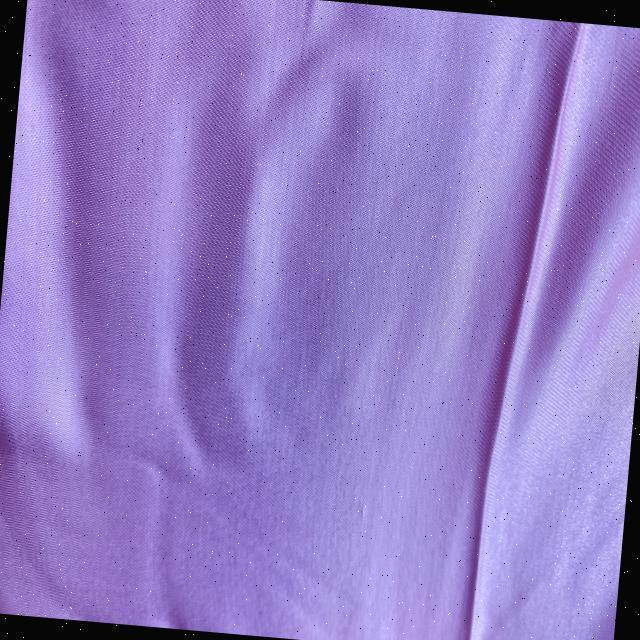broken_yarn: (463, 28, 585, 640)
